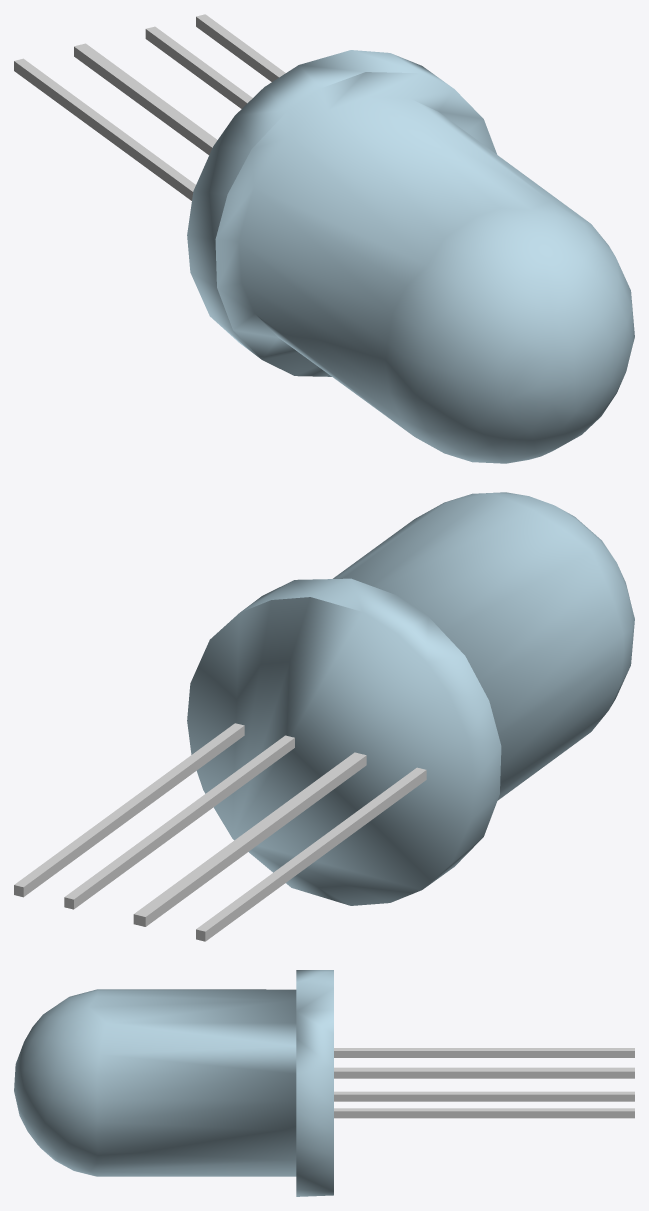
The model's file is Led_RGB_LowPoly.fbx.
The picture shows the model from 3 angles, top to bottom: view 1: azimuth 30°, elevation 25°; view 2: azimuth 150°, elevation 25°; view 3: azimuth 270°, elevation 25°; orthographic projection. The views are drawn at different scales.
Visible parts, largest first — view 1: Body1, Body2, Body4, Body5, Body3; view 2: Body1, Body4, Body3, Body2, Body5; view 3: Body1, Body4, Body3, Body5, Body2.
Part boxes in pixels (<box>): Body1: <box>187,50,634,463</box>; Body2: <box>14,58,195,200</box>; Body4: <box>74,43,217,154</box>; Body5: <box>145,26,252,108</box>; Body3: <box>196,14,285,81</box>; Body1: <box>187,492,634,905</box>; Body4: <box>133,752,366,926</box>; Body3: <box>14,723,244,897</box>; Body2: <box>196,767,426,941</box>; Body5: <box>64,735,294,909</box>; Body1: <box>14,970,333,1196</box>; Body4: <box>334,1067,634,1078</box>; Body3: <box>334,1108,634,1118</box>; Body5: <box>334,1091,634,1101</box>; Body2: <box>334,1048,634,1057</box>.
Size of the model in its own units: 6.01 by 6.03 by 16.5.
